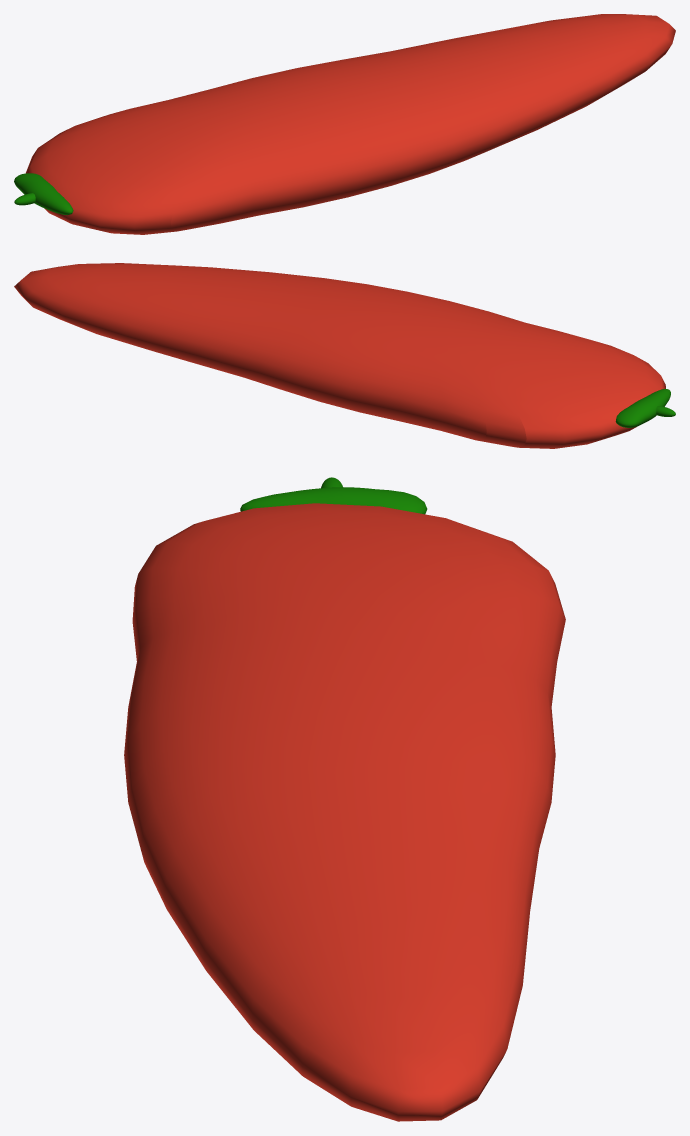
The model's file is pepper.fbx.
3 views of the same model, one above another, from view 1: azimuth 30°, elevation 25°; view 2: azimuth 150°, elevation 25°; view 3: azimuth 270°, elevation 25° (orthographic). The views are drawn at different scales.
Parts seen in each view (by area): view 1: Sphere, Sphere.001; view 2: Sphere, Sphere.001; view 3: Sphere, Sphere.001.
Boxes of the visible parts, left/top/right/bottom form: Sphere: left=25, top=14, right=675, bottom=234; Sphere.001: left=14, top=173, right=73, bottom=215; Sphere: left=14, top=263, right=665, bottom=448; Sphere.001: left=615, top=388, right=670, bottom=427; Sphere: left=124, top=503, right=565, bottom=1121; Sphere.001: left=240, top=487, right=427, bottom=514.
Size of the model in its own units: 988 by 122 by 298.
